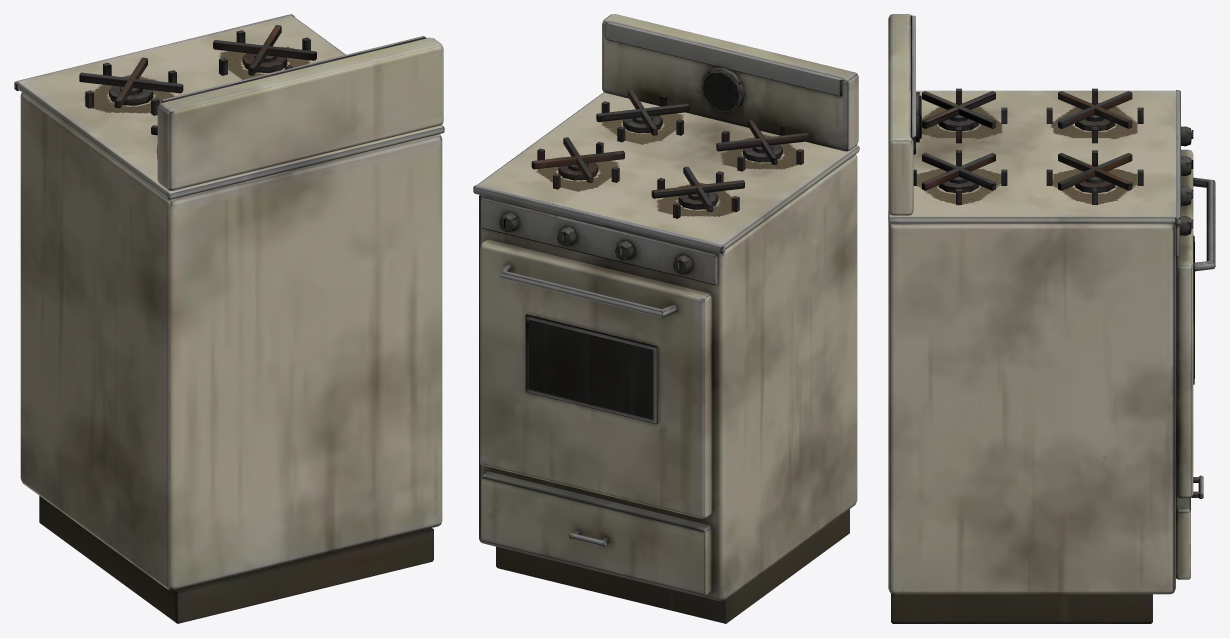
Rendered from furniture_counter_stove.glb.
3 views of the same model, side by side, from view 1: azimuth 30°, elevation 25°; view 2: azimuth 150°, elevation 25°; view 3: azimuth 270°, elevation 25° (orthographic). The views are drawn at different scales.
Visible parts, largest first — view 1: furniture_counter_stove; view 2: furniture_counter_stove; view 3: furniture_counter_stove.
Part boxes in pixels (box(x1,y1,x2,y2)): furniture_counter_stove: box(14, 14, 444, 623); furniture_counter_stove: box(473, 14, 859, 623); furniture_counter_stove: box(888, 14, 1215, 623).
Size of the model in its own units: 0.604 by 1.07 by 0.649.
1 material, 1 textured.
